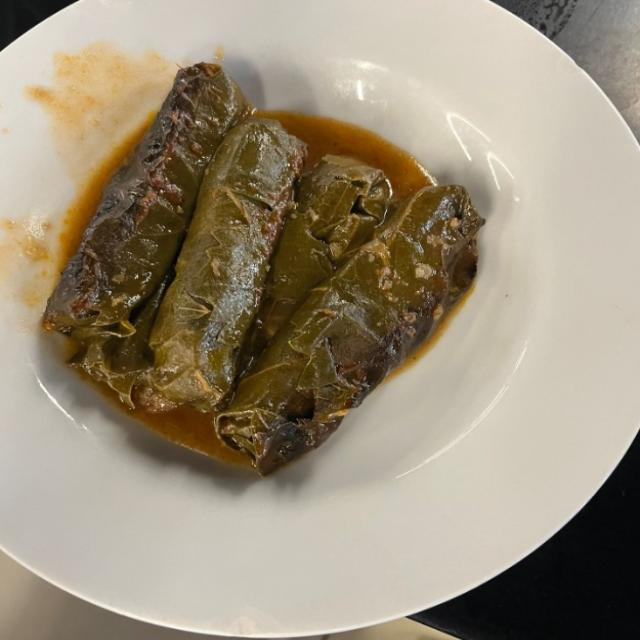ana_yemek: (40, 58, 486, 478)
